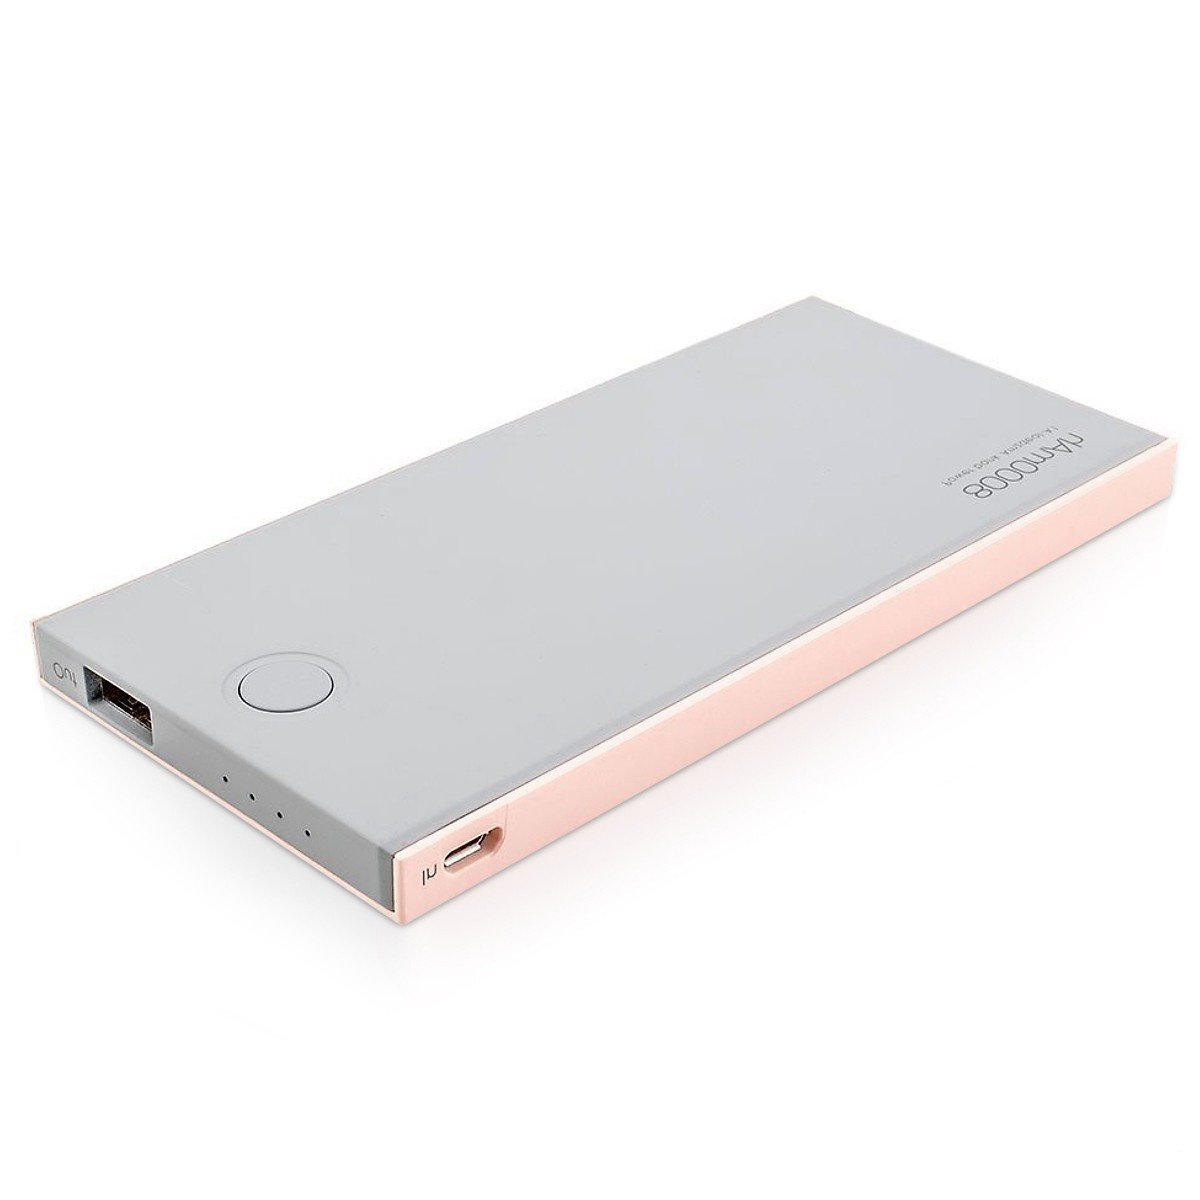Aukey: (820, 377, 1147, 589)
